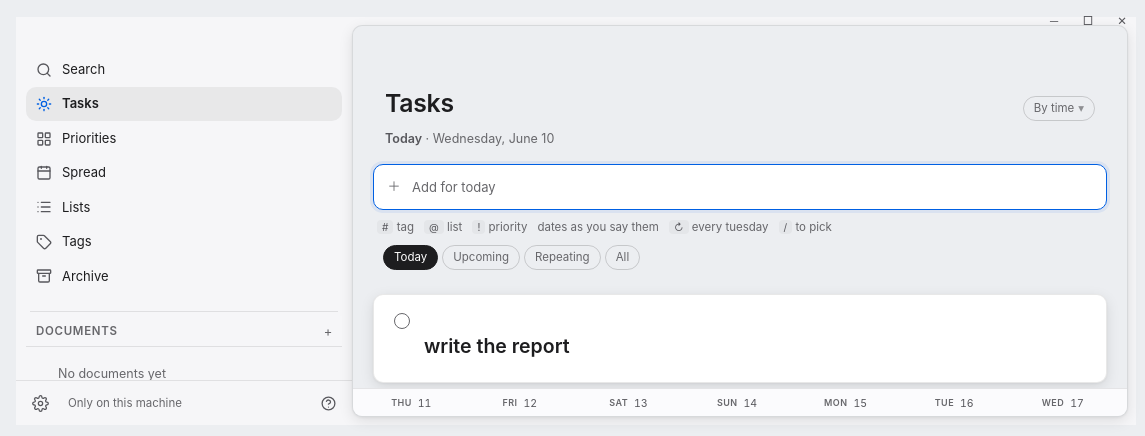
Test case: the archive reads in layers › shows routines as series, never as one row per turn
Expected: the heading "write the report" is shown, left=424, top=334, right=570, bottom=358
Click the button "Archive" at coordinates (85, 276), box left=26, top=260, right=342, bottom=293
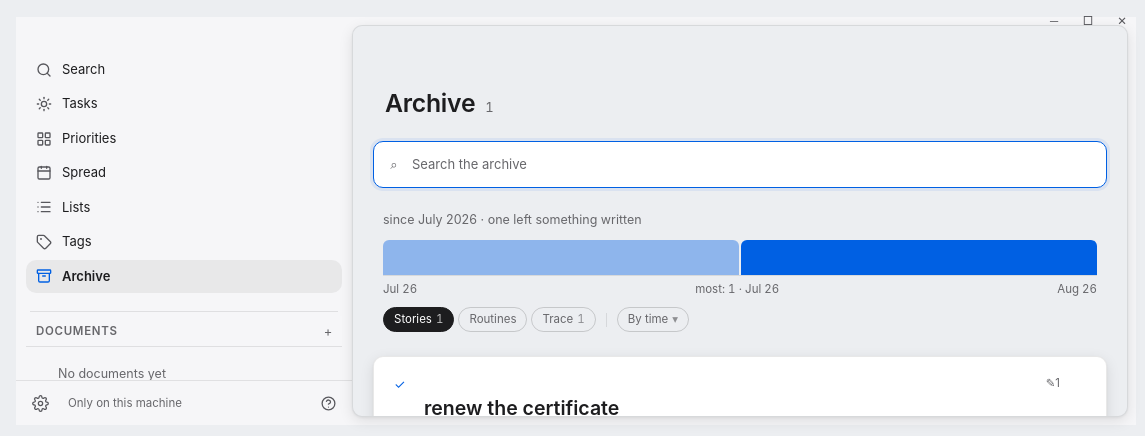
Result: the heading "renew the certificate" is shown at left=424, top=396, right=619, bottom=416
Click the button "Routines" at coordinates (493, 320), box left=458, top=307, right=527, bottom=332
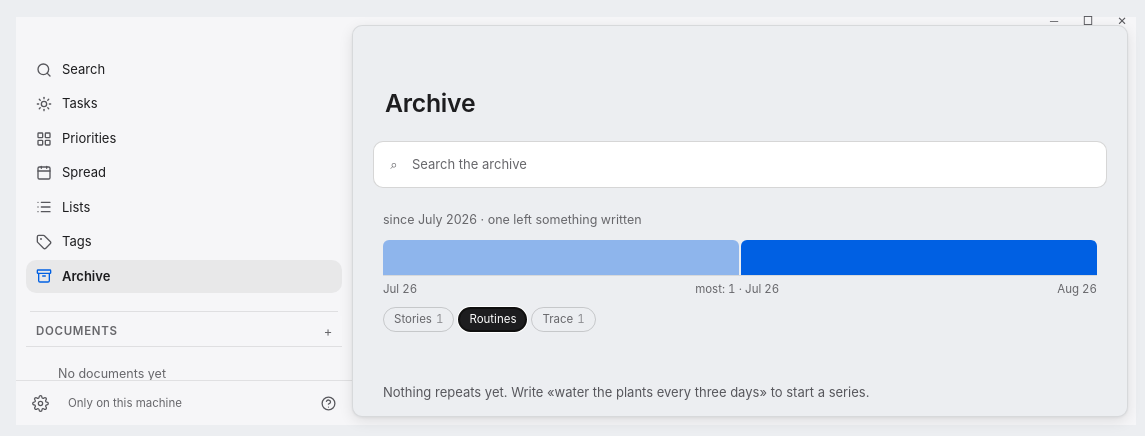
Result: the text "Nothing repeats yet" is shown at left=383, top=384, right=870, bottom=400
